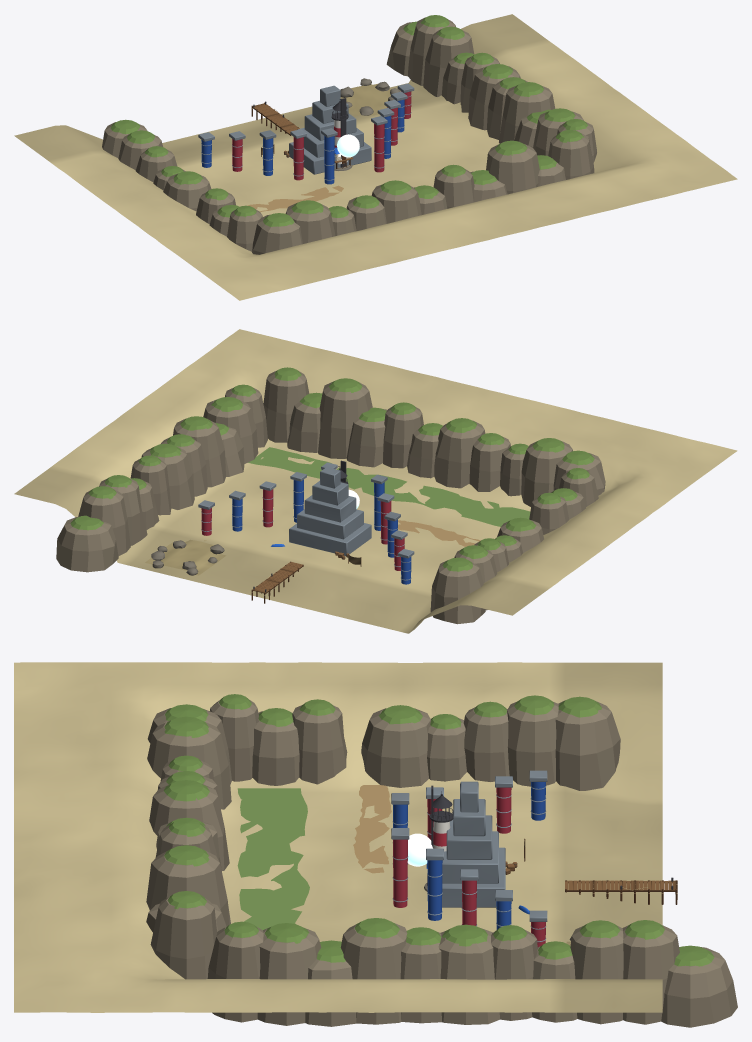
The model's file is coast.glb.
3 renders of one model, top to bottom at view 1: azimuth 30°, elevation 25°; view 2: azimuth 150°, elevation 25°; view 3: azimuth 270°, elevation 25°, orthographic. The views are drawn at different scales.
Parts seen in each view (by area): view 1: cst_land, cst_temple, cst_spit, cst_dock; view 2: cst_land, cst_temple, cst_spit, cst_dock; view 3: cst_land, cst_temple, cst_dock, cst_lighthouse.
Part boxes in pixels (x1,y1,x2,y2): cst_land: [14, 14, 737, 300]; cst_temple: [198, 83, 414, 184]; cst_spit: [340, 78, 400, 115]; cst_dock: [251, 101, 299, 135]; cst_land: [14, 329, 737, 633]; cst_temple: [198, 460, 414, 584]; cst_spit: [145, 539, 226, 575]; cst_dock: [251, 561, 303, 603]; cst_land: [14, 662, 737, 1027]; cst_temple: [391, 770, 547, 946]; cst_dock: [565, 877, 677, 904]; cst_lighthouse: [424, 791, 453, 891].
Bounding box in the file's own units: 120 × 18 × 105.
